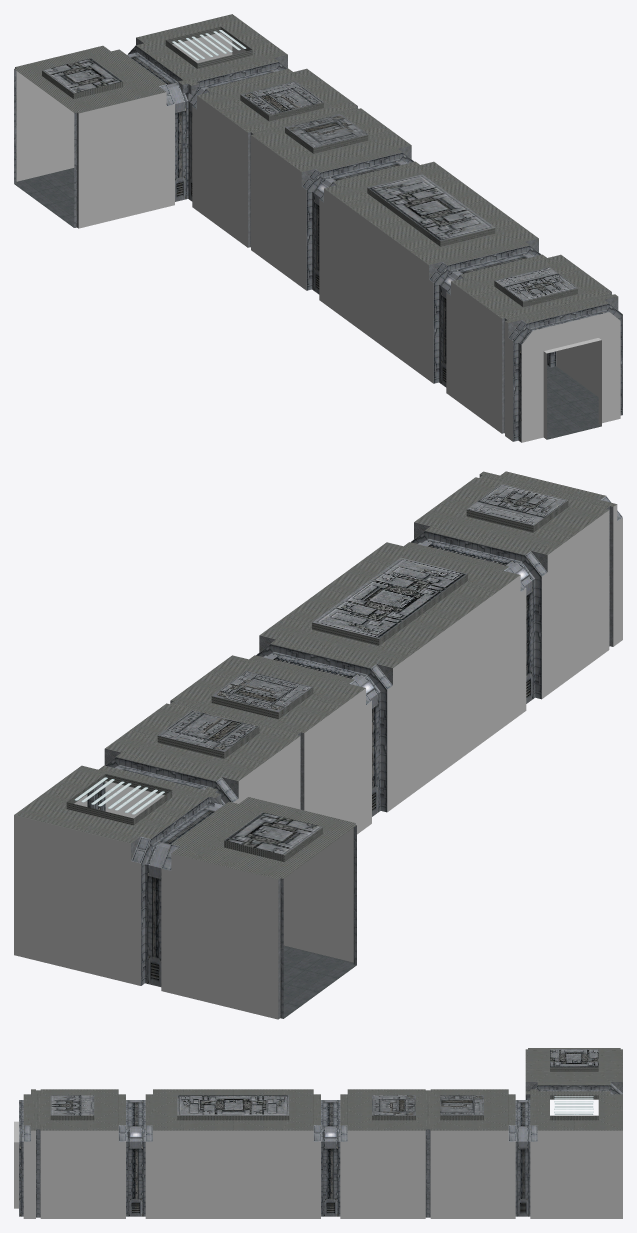
The model's file is poi_all_impl_bunker_warren_s01_r17_hall17_mesh_r17.fbx.
3 renders of one model, top to bottom at view 1: azimuth 30°, elevation 25°; view 2: azimuth 150°, elevation 25°; view 3: azimuth 270°, elevation 25°, orthographic. The views are drawn at different scales.
Parts seen in each view (by area): view 1: mesh_node; view 2: mesh_node; view 3: mesh_node.
Part boxes in pixels (x1,y1,x2,y2): mesh_node: (14,14,622,442); mesh_node: (14,471,622,1019); mesh_node: (14,1048,622,1218).
Bounding box in the file's own units: 8 × 4.2 × 25.
